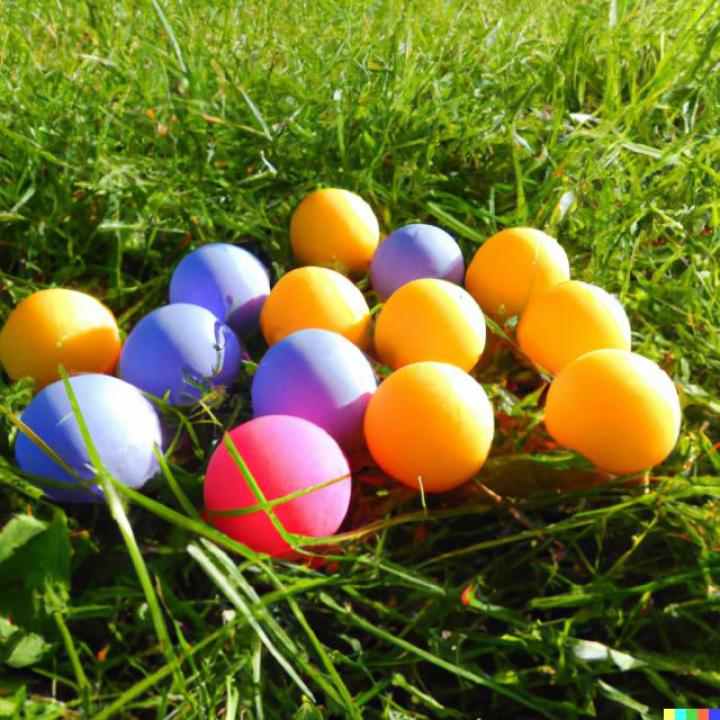orange: (364, 361, 496, 492), (545, 349, 680, 476), (0, 288, 122, 395), (375, 278, 487, 373), (290, 188, 380, 270)
